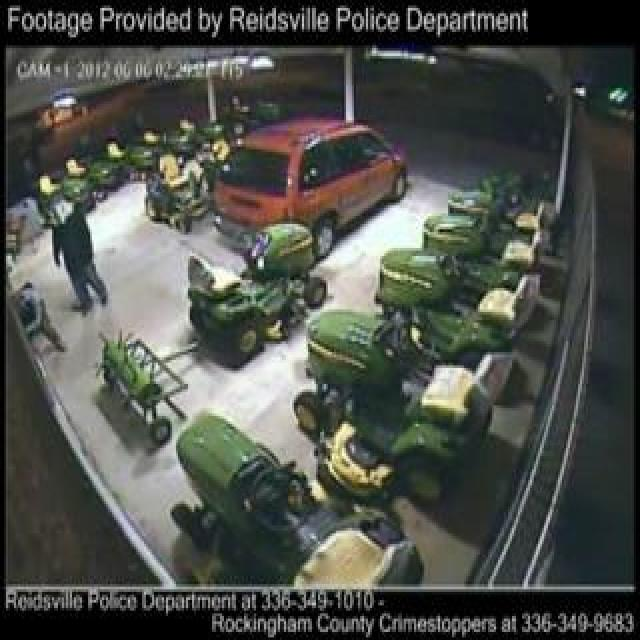thief: (31, 156, 100, 305)
